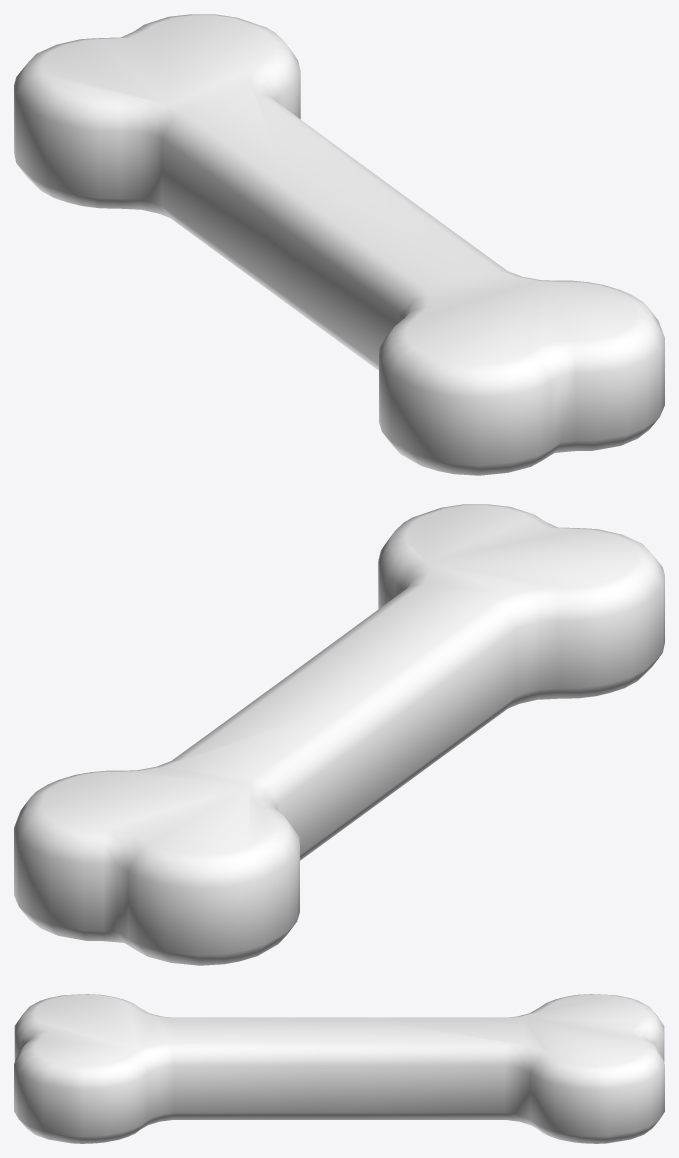
Rendered from Bone_1.fbx.
3 renders of one model, top to bottom at view 1: azimuth 30°, elevation 25°; view 2: azimuth 150°, elevation 25°; view 3: azimuth 270°, elevation 25°, orthographic. The views are drawn at different scales.
Visible parts, largest first — view 1: Bone_1; view 2: Bone_1; view 3: Bone_1.
Boxes of the visible parts, x1=… form: Bone_1: x1=14, y1=14, x2=664, y2=475; Bone_1: x1=14, y1=504, x2=664, y2=965; Bone_1: x1=14, y1=994, x2=664, y2=1143.
Size of the model in its own units: 0.1199 by 0.0488 by 0.3758.
